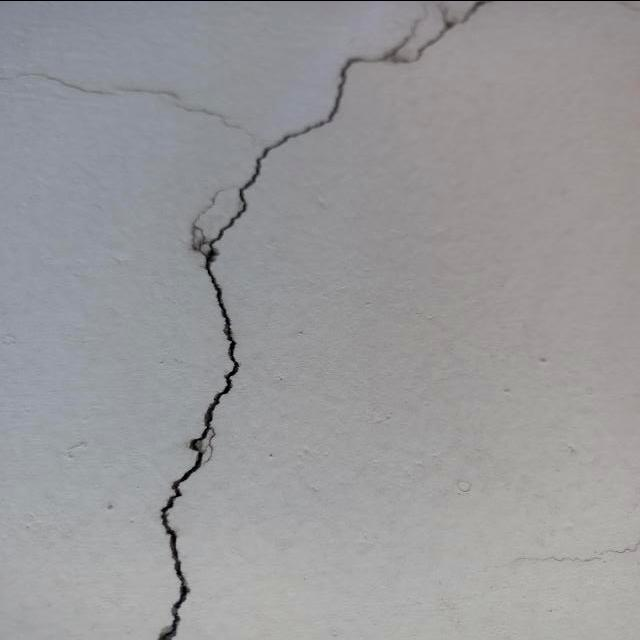SurfaceCrack: (105, 2, 459, 640)
